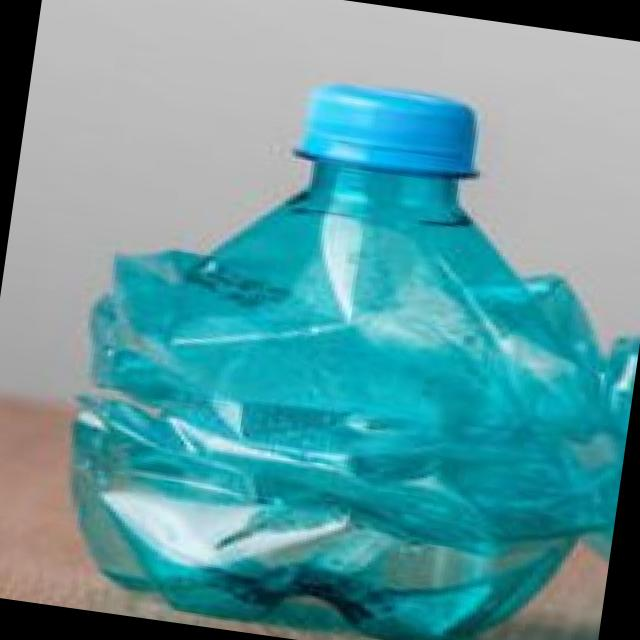general: (43, 46, 640, 640)
